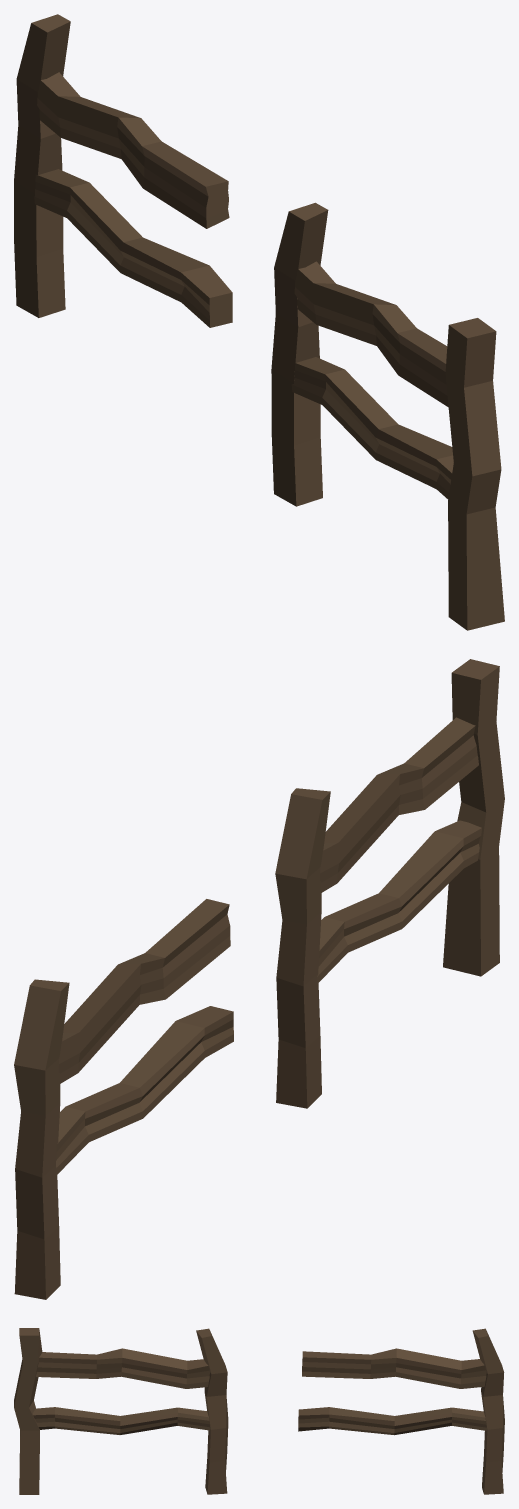
Rendered from barriere.fbx.
The picture shows the model from 3 angles, top to bottom: view 1: azimuth 30°, elevation 25°; view 2: azimuth 150°, elevation 25°; view 3: azimuth 270°, elevation 25°; orthographic projection. The views are drawn at different scales.
Parts seen in each view (by area): view 1: Cube.019, Cube.021; view 2: Cube.019, Cube.021; view 3: Cube.019, Cube.021.
Part boxes in pixels (<box>): Cube.019: <box>271,202,504,630</box>; Cube.021: <box>14,14,232,327</box>; Cube.019: <box>275,659,504,1108</box>; Cube.021: <box>14,899,233,1299</box>; Cube.019: <box>14,1328,228,1494</box>; Cube.021: <box>298,1328,504,1494</box>.
Bounding box in the file's own units: 31.37 × 222 × 623.
